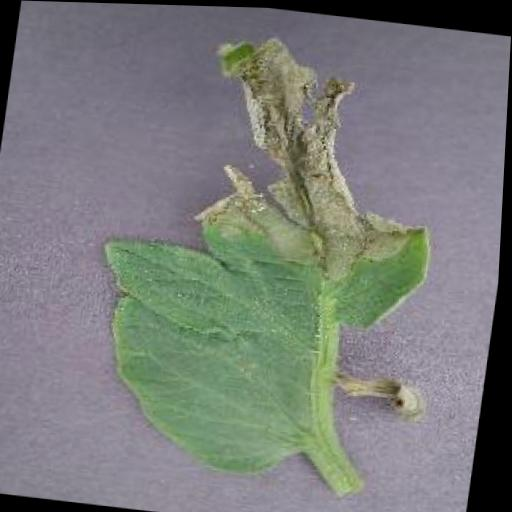Late Blight: (74, 14, 476, 493)
